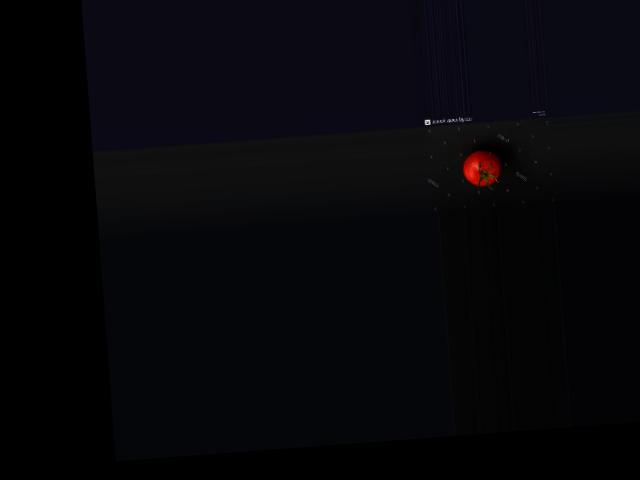tomato: (462, 149, 503, 187)
